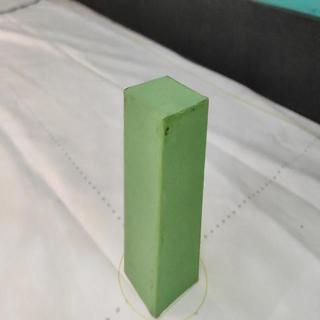greenbox: (121, 73, 209, 320)
